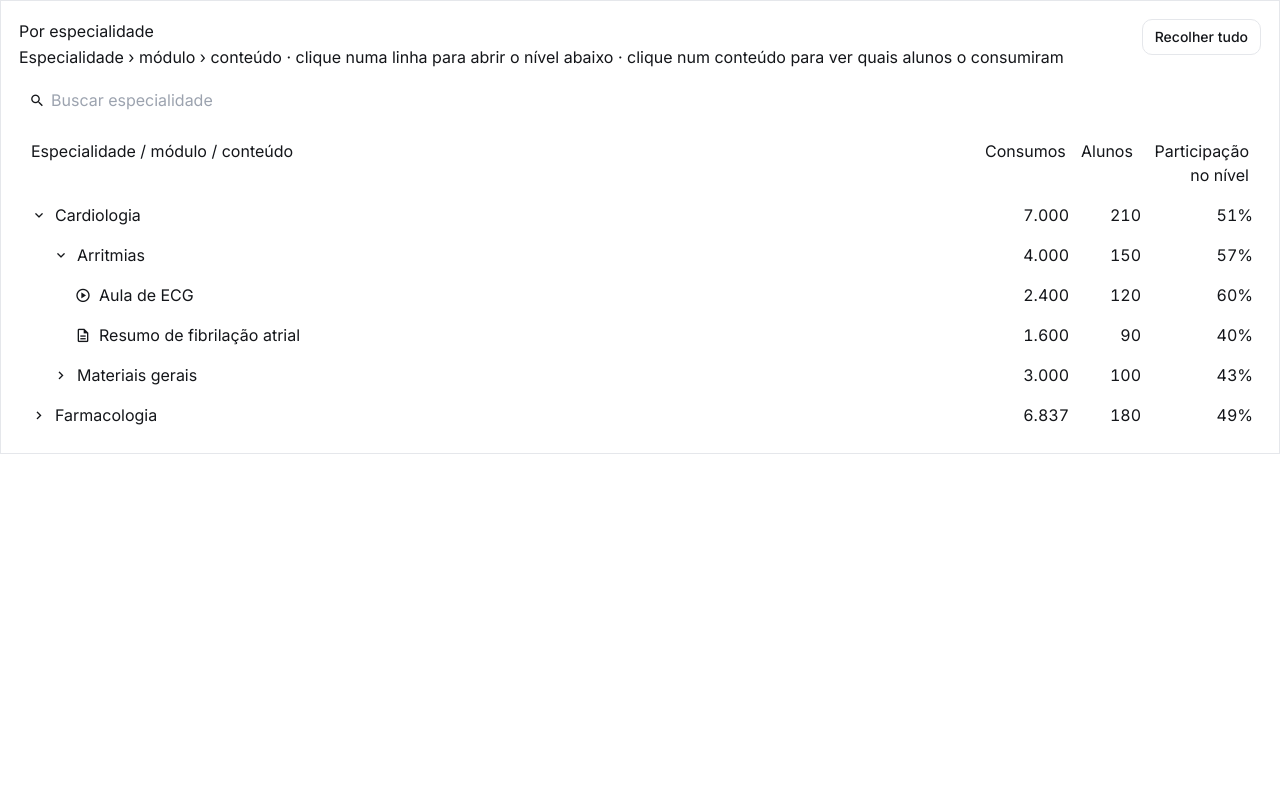
Test: AlunosDoConteudoDialog (§12.4) › documento: "… · documento"
The image size is (1280, 800).
Step 1. Click the button with aria-label "Ver alunos que consumiram Aula de ECG" → coordinates (146, 295), box [99,283,194,307]
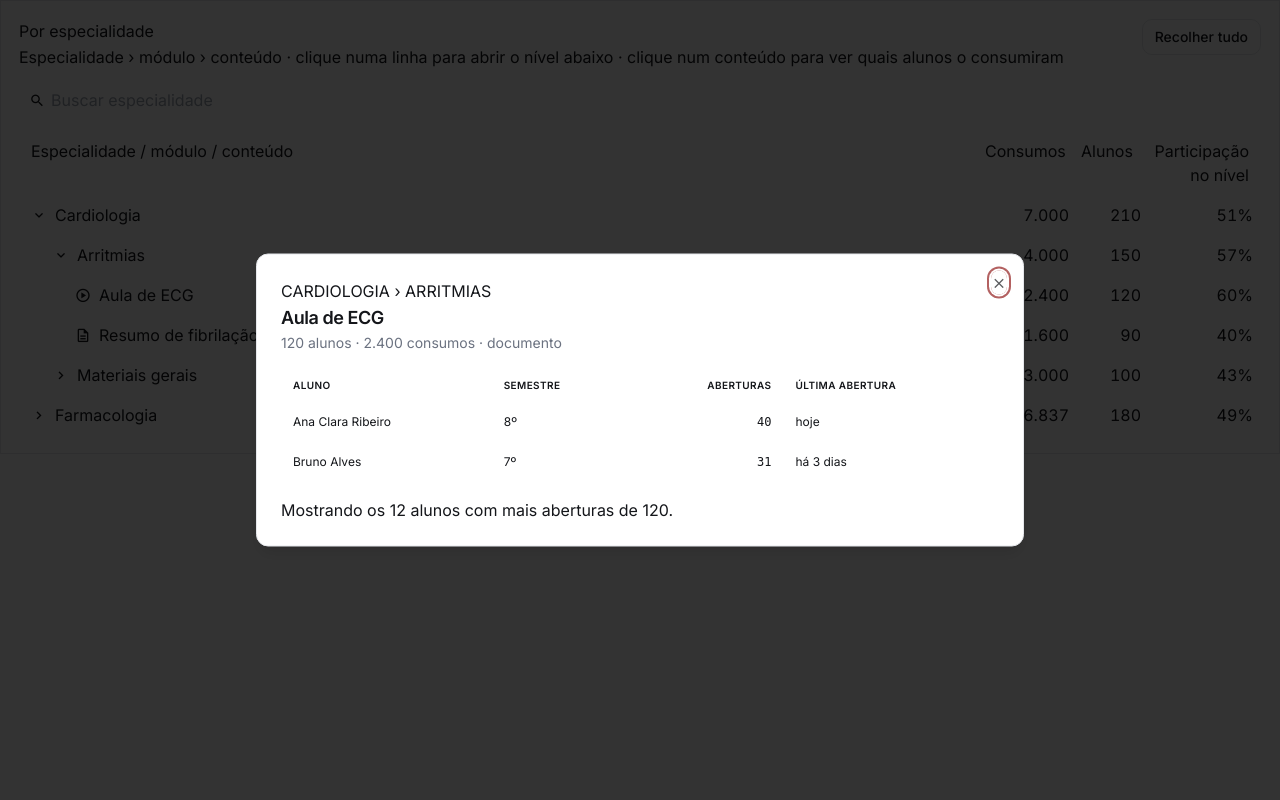
Result: the dialog shows "120 alunos · 2.400 consumos · documento" at [281,334,562,350]
